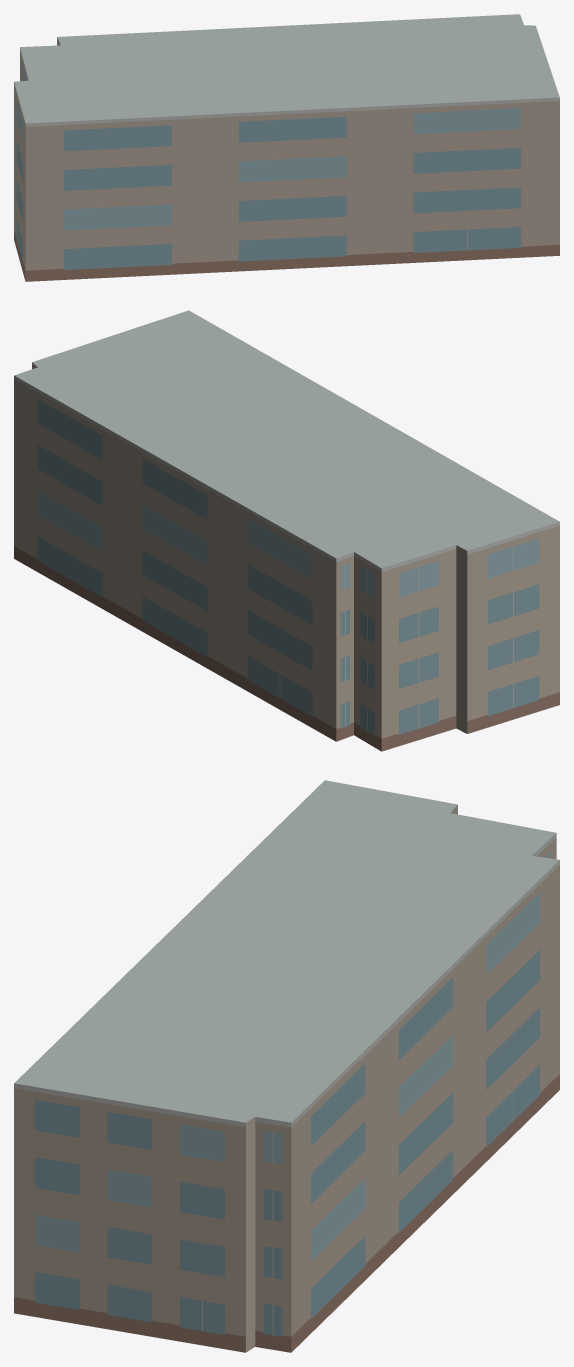
The model's file is survey-upis-32911832.glb.
3 views of the same model, one above another, from view 1: azimuth 30°, elevation 25°; view 2: azimuth 150°, elevation 25°; view 3: azimuth 270°, elevation 25° (orthographic). The views are drawn at different scales.
Parts seen in each view (by area): view 1: survey-upis-32911832.tmp; view 2: survey-upis-32911832.tmp; view 3: survey-upis-32911832.tmp.
Boxes of the visible parts, x1=… form: survey-upis-32911832.tmp: x1=14, y1=14, x2=559, y2=281; survey-upis-32911832.tmp: x1=14, y1=310, x2=559, y2=751; survey-upis-32911832.tmp: x1=14, y1=780, x2=559, y2=1352.
Size of the model in its own units: 36.73 by 11.5 by 24.74.
